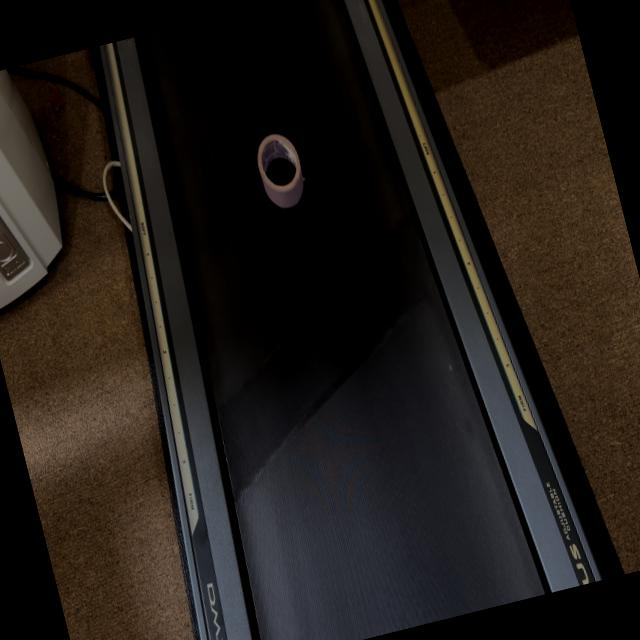Trash: (251, 128, 311, 213)
